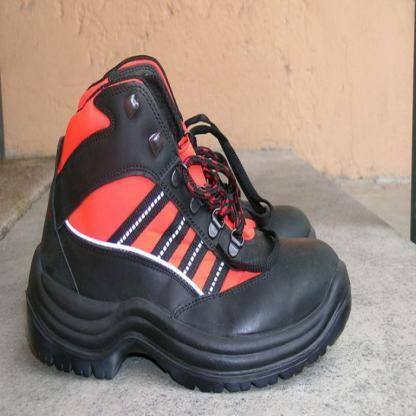bota: (20, 50, 355, 393)
